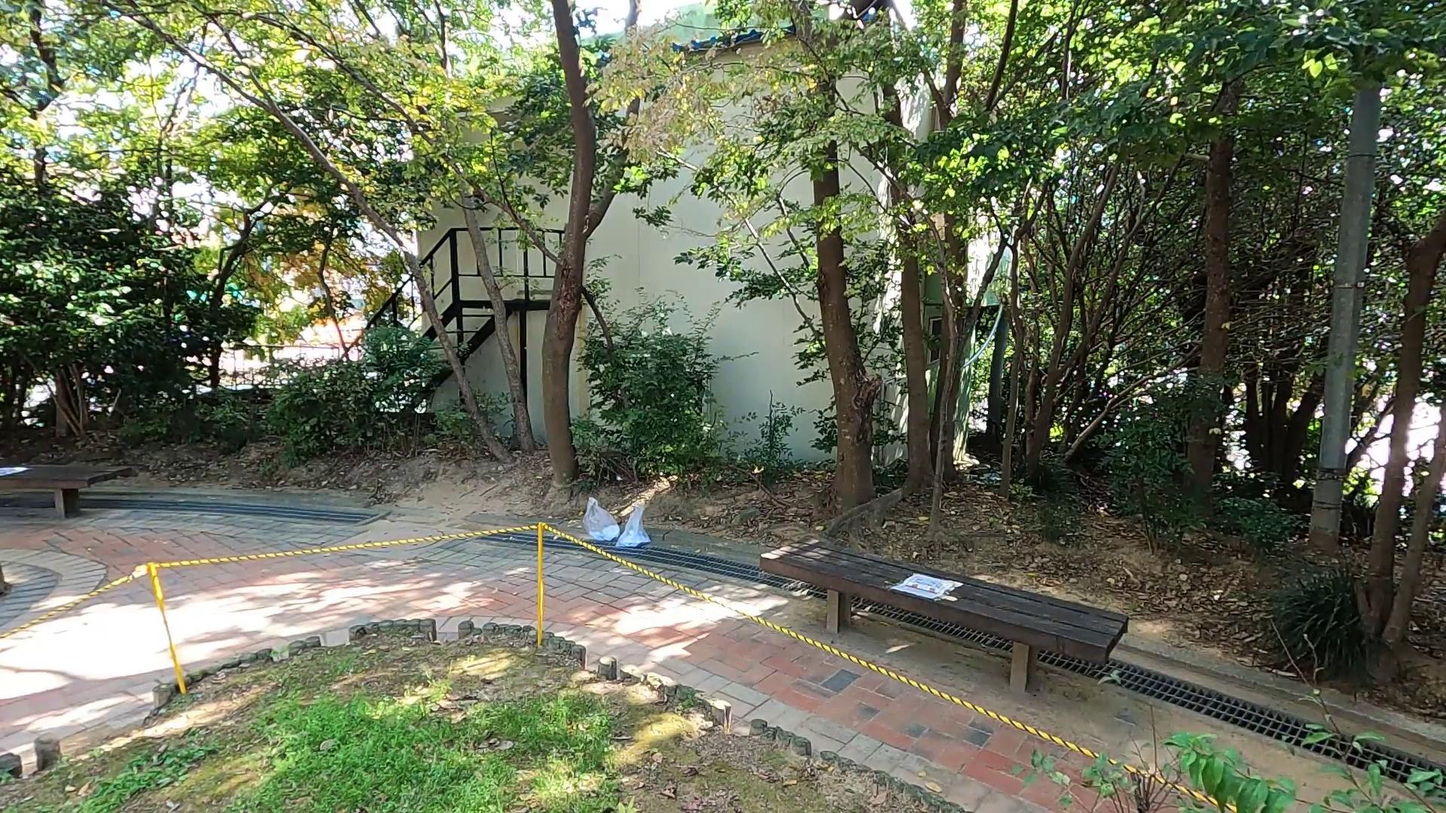trash: (614, 503, 654, 548), (582, 495, 620, 542)
